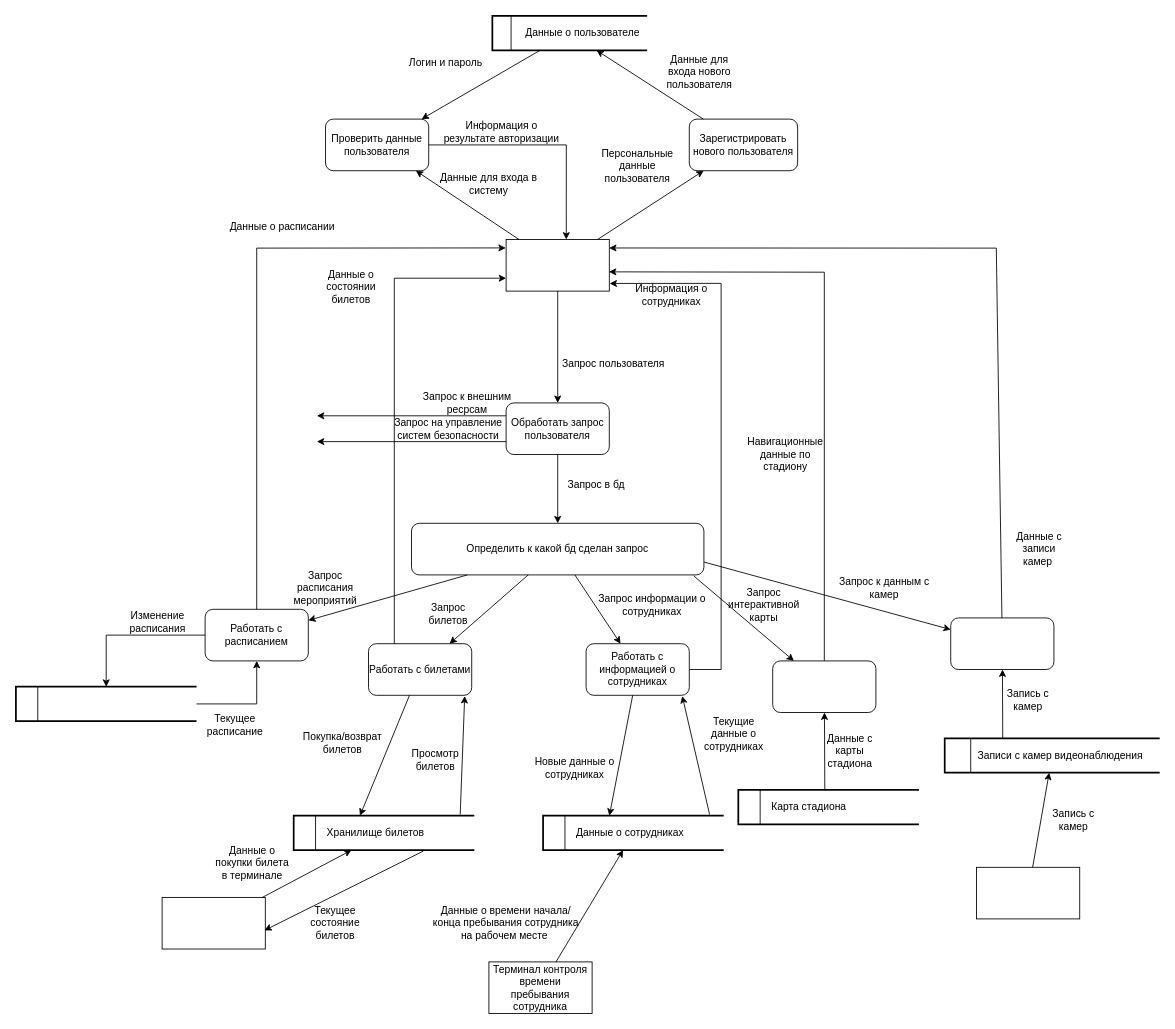
Image size: 1175x1029. Some labels were removed from this diagram. Each missing label, with the centre of its shape:
Камеры видеонаблюдения: the point at 1028,892
Пользователь: the point at 557,265
Работать с данными с камер видеонаблюдения: the point at 1002,643
Работать с интерактивной картой: the point at 824,686
Расписание мероприятий: the point at 106,703
Терминал для покупки билетов на стадионе: the point at 213,923
